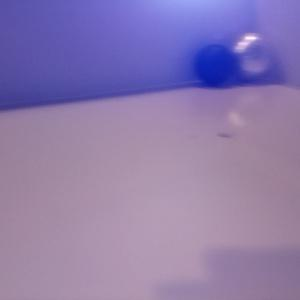alive_ball: (230, 32, 273, 79)
dead_ball: (193, 43, 237, 84)
